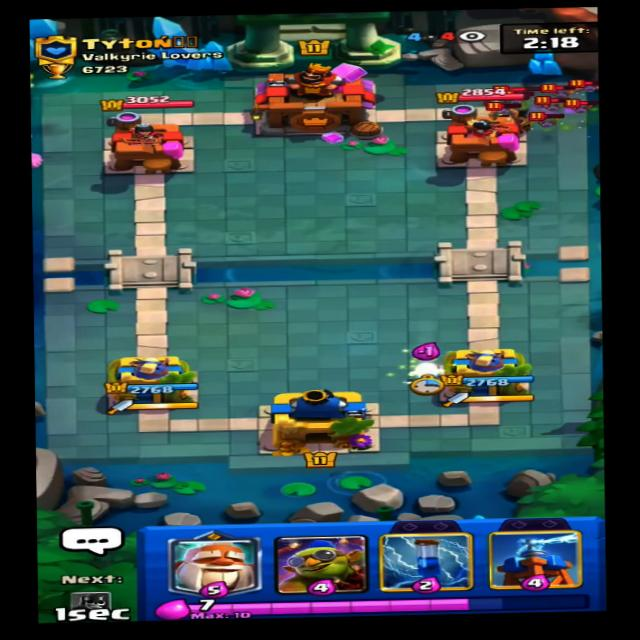bats: (518, 110, 571, 133), (488, 102, 524, 120), (568, 79, 607, 95), (574, 97, 602, 114), (547, 86, 570, 97)
